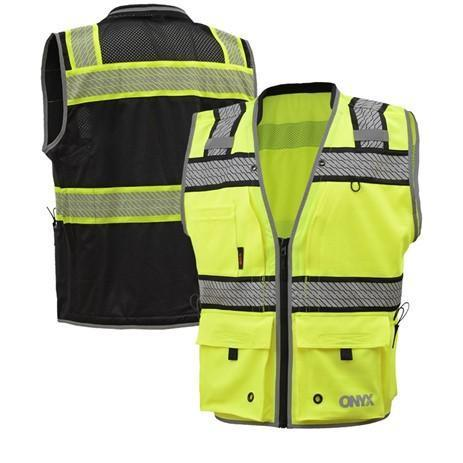vest: (176, 79, 422, 427), (38, 5, 258, 329)
